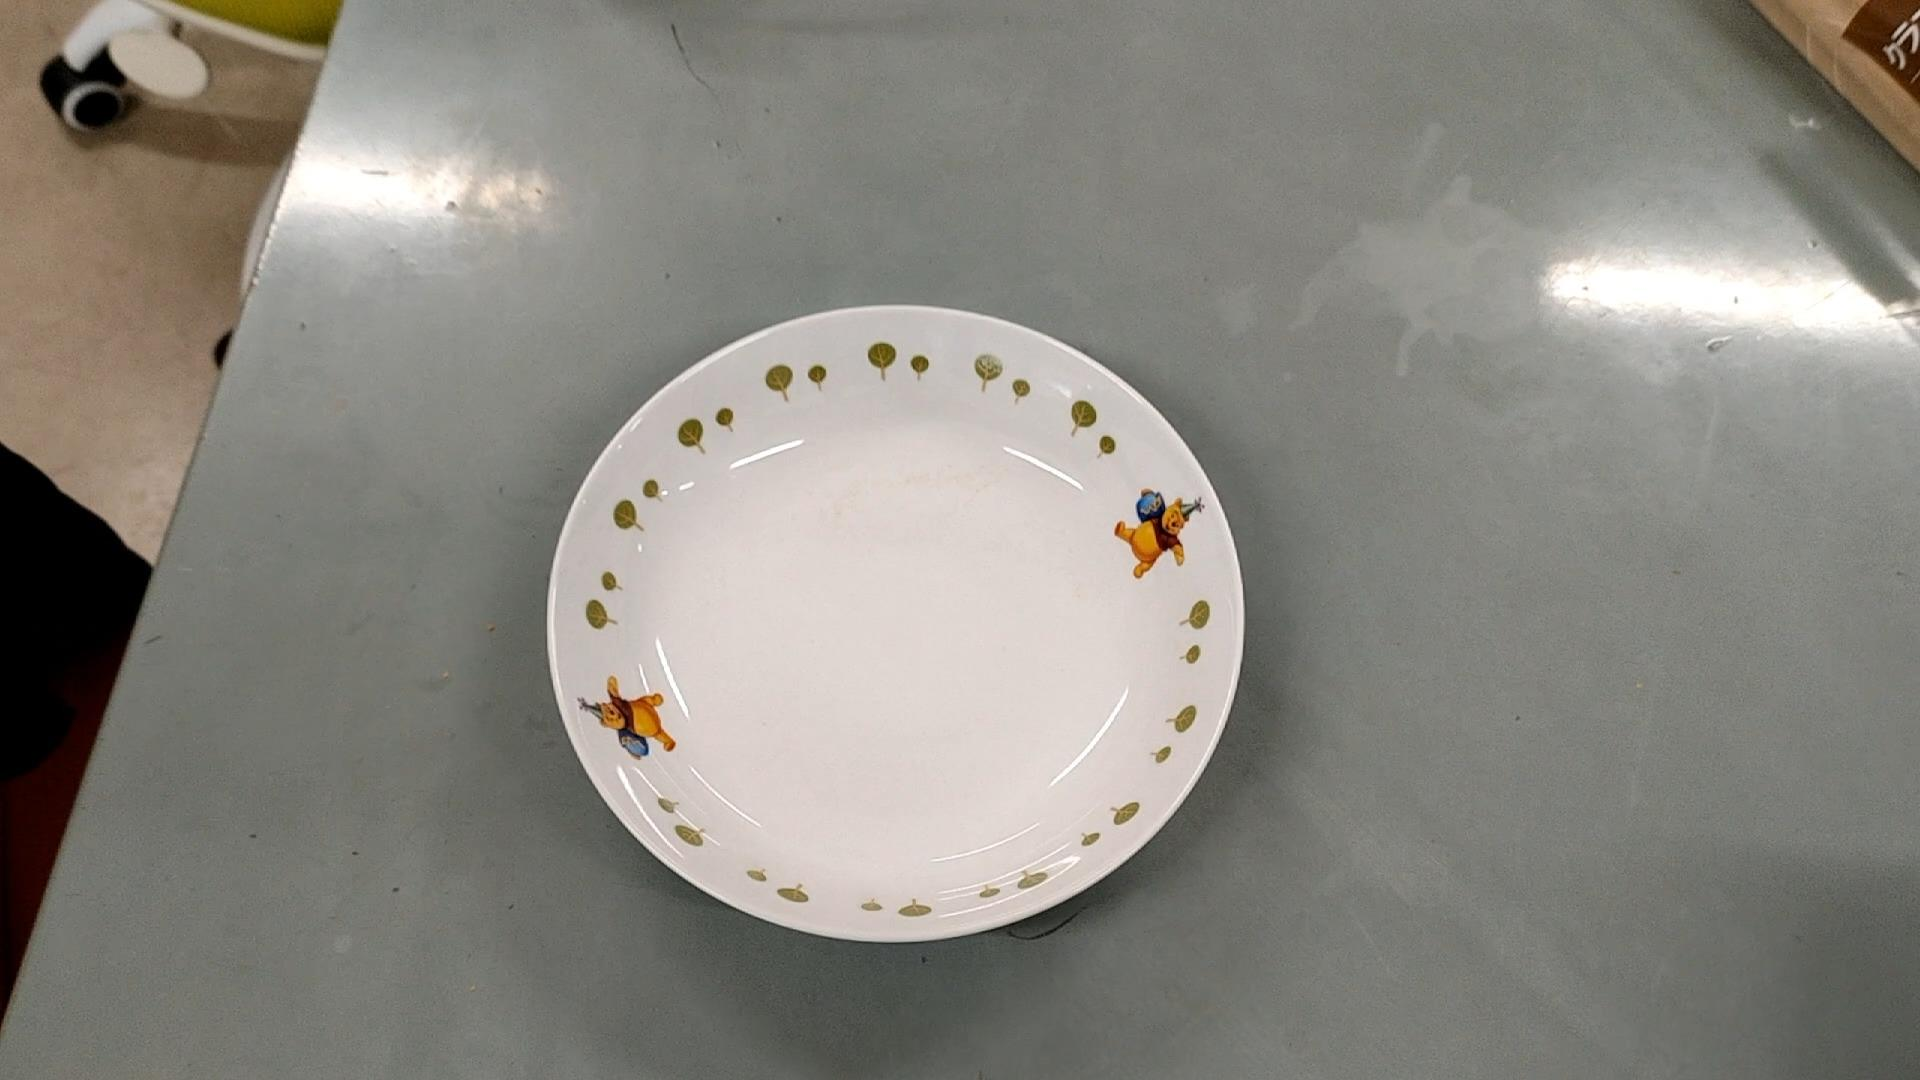plate: (550, 306, 1240, 945)
